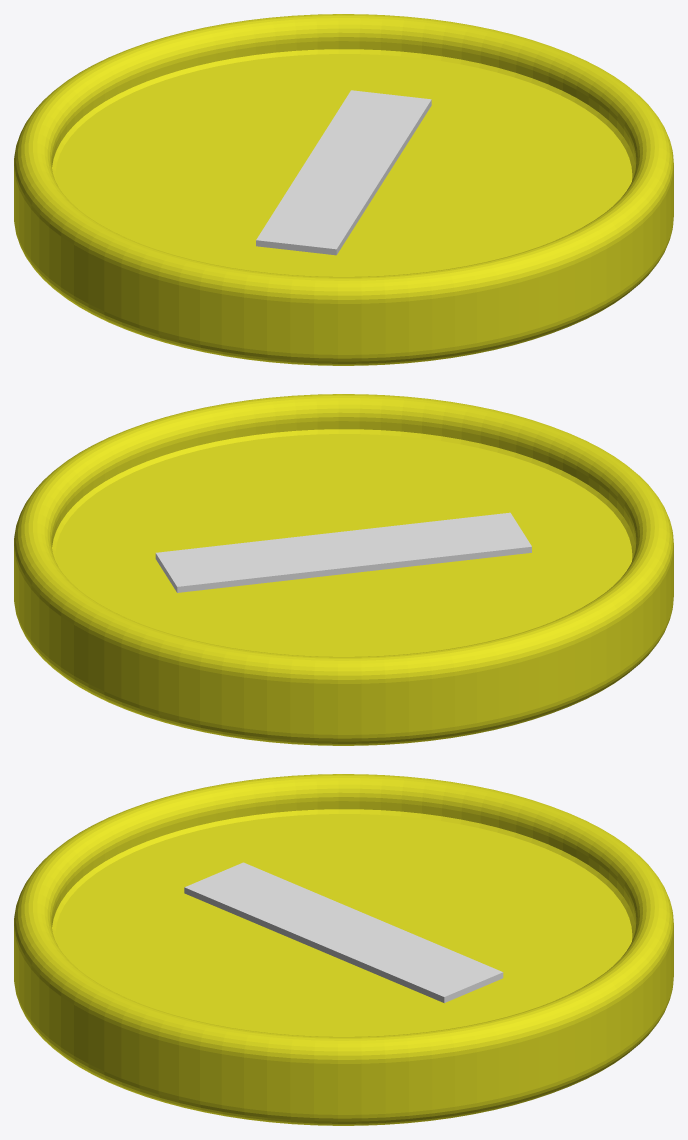
Rendered from MarioCoin.fbx.
The picture shows the model from 3 angles, top to bottom: view 1: azimuth 30°, elevation 25°; view 2: azimuth 150°, elevation 25°; view 3: azimuth 270°, elevation 25°; orthographic projection.
Visible parts, largest first — view 1: Cylinder, Cube; view 2: Cylinder, Cube; view 3: Cylinder, Cube.
Boxes of the visible parts, box(x1,y1,x2,y2) form: Cylinder: box(14, 14, 673, 365); Cube: box(256, 90, 431, 255); Cylinder: box(14, 394, 673, 745); Cube: box(155, 512, 531, 592); Cylinder: box(14, 774, 673, 1125); Cube: box(184, 862, 503, 1002).
Size of the model in its own units: 700 by 100 by 700.
